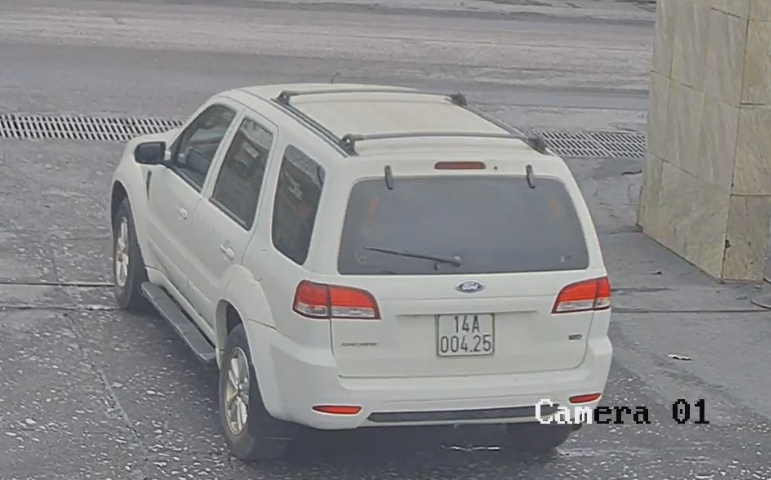vehicle plate: (432, 308, 499, 356)
